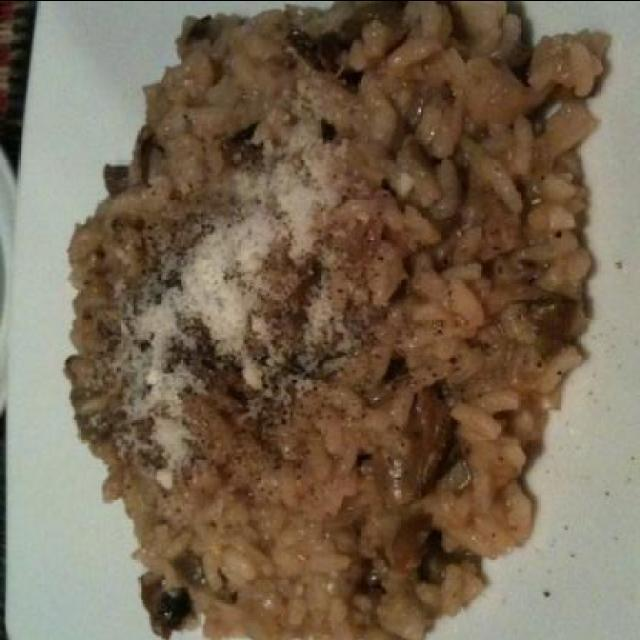Risotto: (54, 22, 602, 620)
